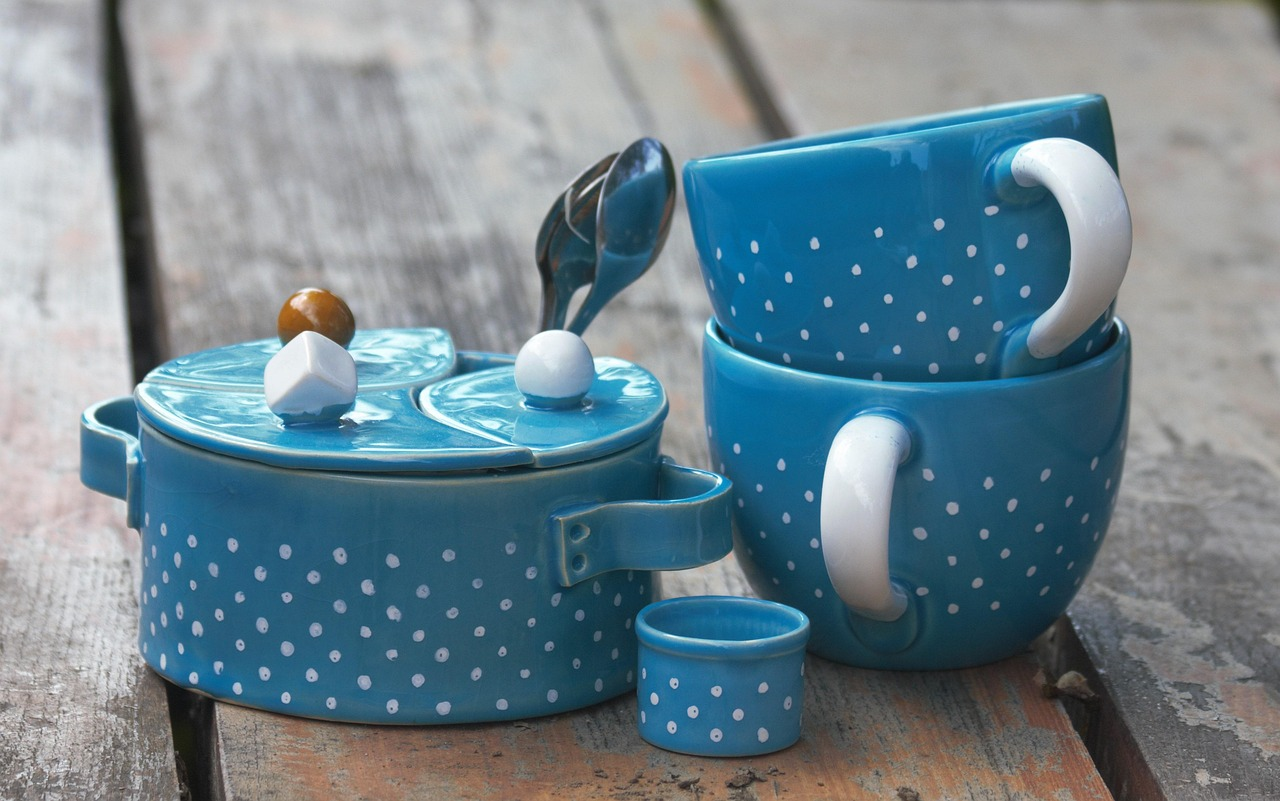mug: (685, 309, 1189, 686), (669, 63, 1146, 407)
